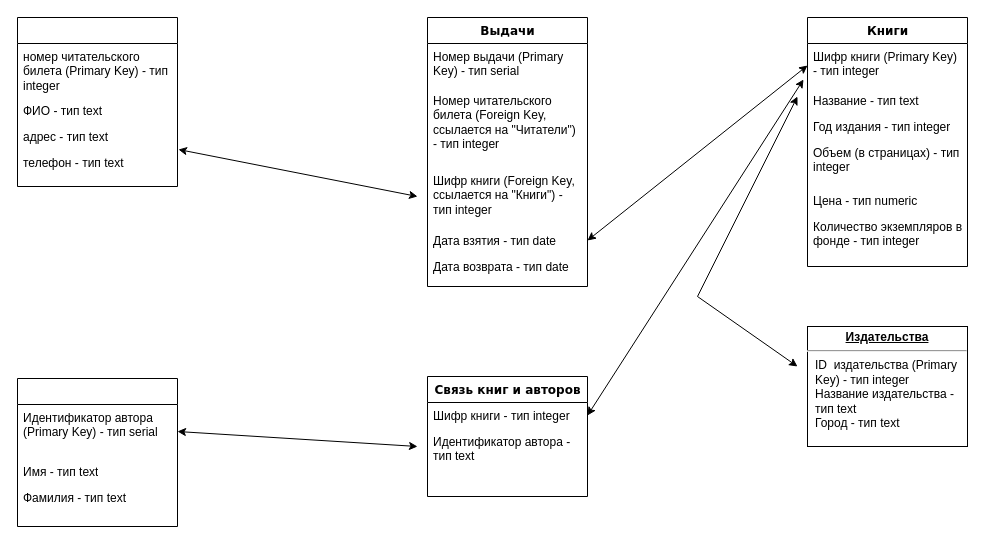
The diagram is 985 pixels wide and 544 high, and some of its shapes have lost their labels. Here are the shapes that lost their labels. From the top down, the box of each, then its label:
(16, 16, 178, 186): Читатели
(16, 378, 178, 526): Авторы
